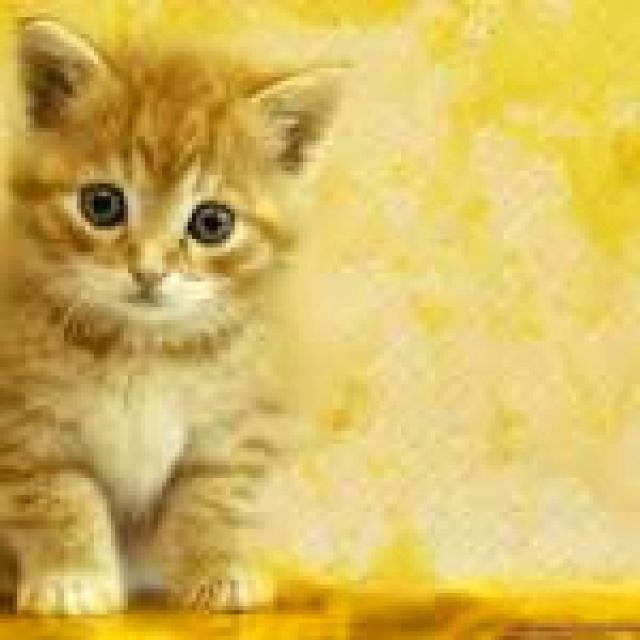KEDI: (0, 13, 373, 614)
